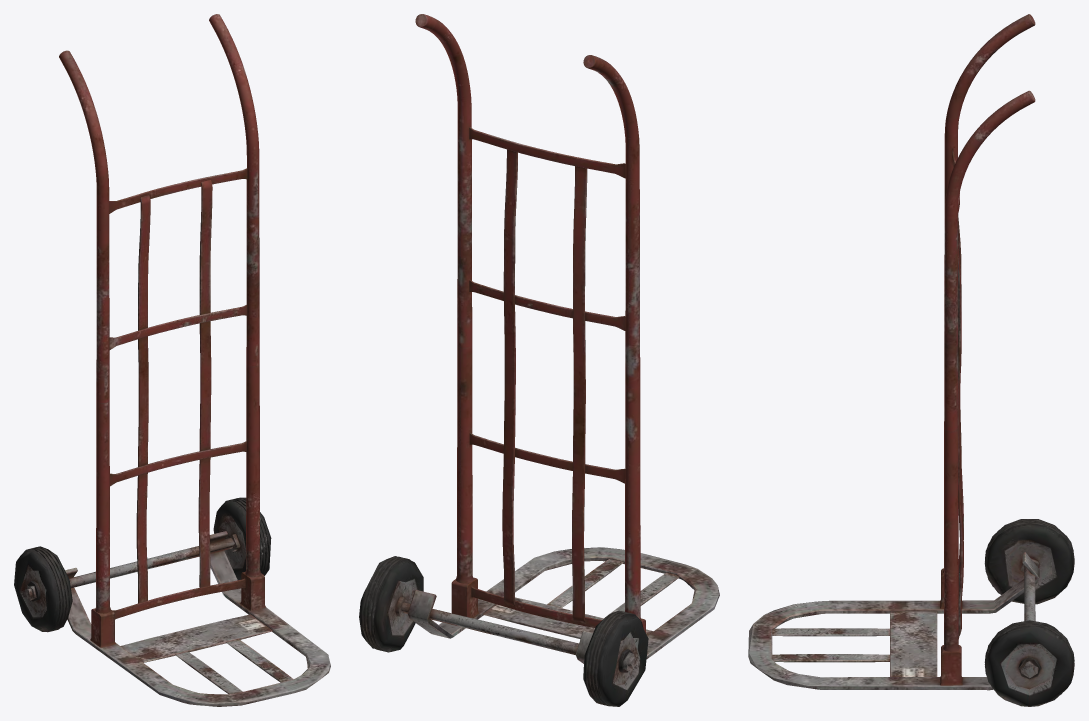
File: hand_truck.glb
3 renders of one model, left to right at view 1: azimuth 30°, elevation 25°; view 2: azimuth 150°, elevation 25°; view 3: azimuth 270°, elevation 25°, orthographic. The views are drawn at different scales.
Parts seen in each view (by area): view 1: hand_truck; view 2: hand_truck; view 3: hand_truck.
Boxes of the visible parts, <box> form: hand_truck: <box>14,14,330,706</box>; hand_truck: <box>359,14,719,706</box>; hand_truck: <box>748,14,1074,706</box>.
Size of the model in its own units: 0.5933 by 1.4 by 0.6922.
Materials: 1 (1 with a texture image).
